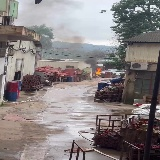fire: (96, 67, 101, 74)
